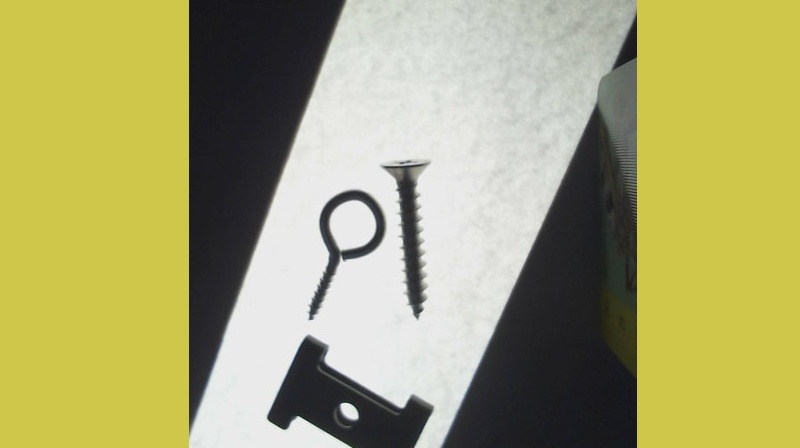O001: (302, 187, 388, 322)
O002: (264, 333, 434, 447)
S001: (379, 150, 437, 321)
